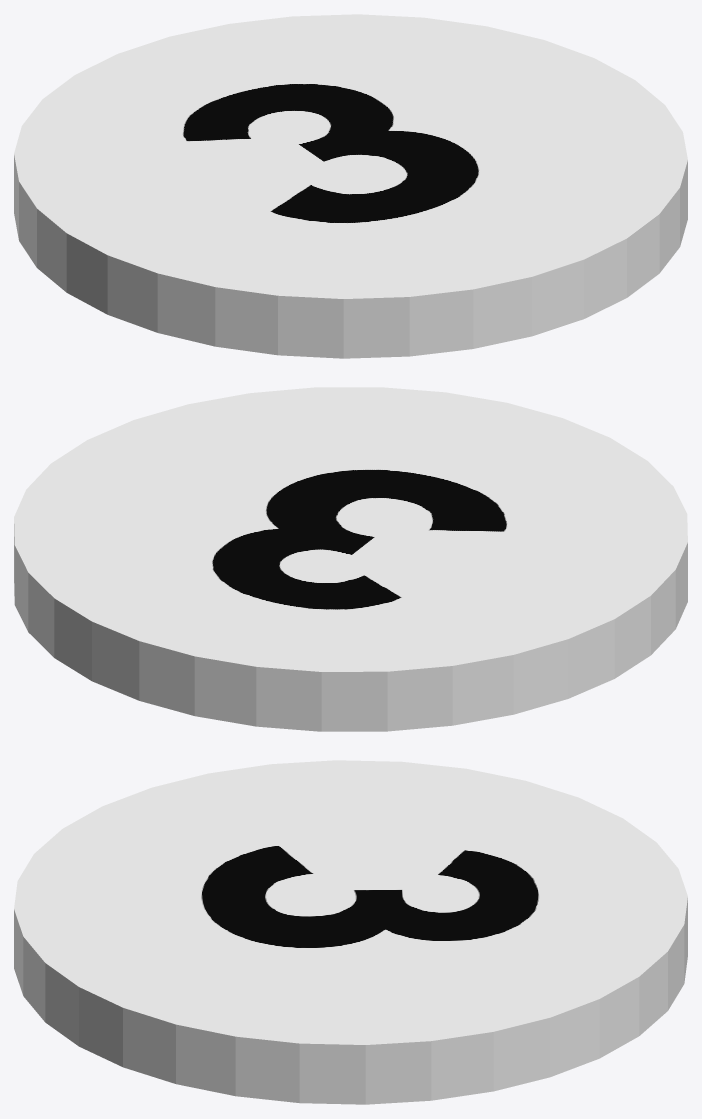
Rendered from Tiga.fbx.
3 renders of one model, top to bottom at view 1: azimuth 30°, elevation 25°; view 2: azimuth 150°, elevation 25°; view 3: azimuth 270°, elevation 25°, orthographic.
Visible parts, largest first — view 1: Cylinder; view 2: Cylinder; view 3: Cylinder.
Part boxes in pixels (left/top/right/bottom): Cylinder: left=14, top=14, right=687, bottom=358; Cylinder: left=14, top=387, right=687, bottom=731; Cylinder: left=14, top=760, right=687, bottom=1104.
Bounding box in the file's own units: 243 × 23.72 × 243.
